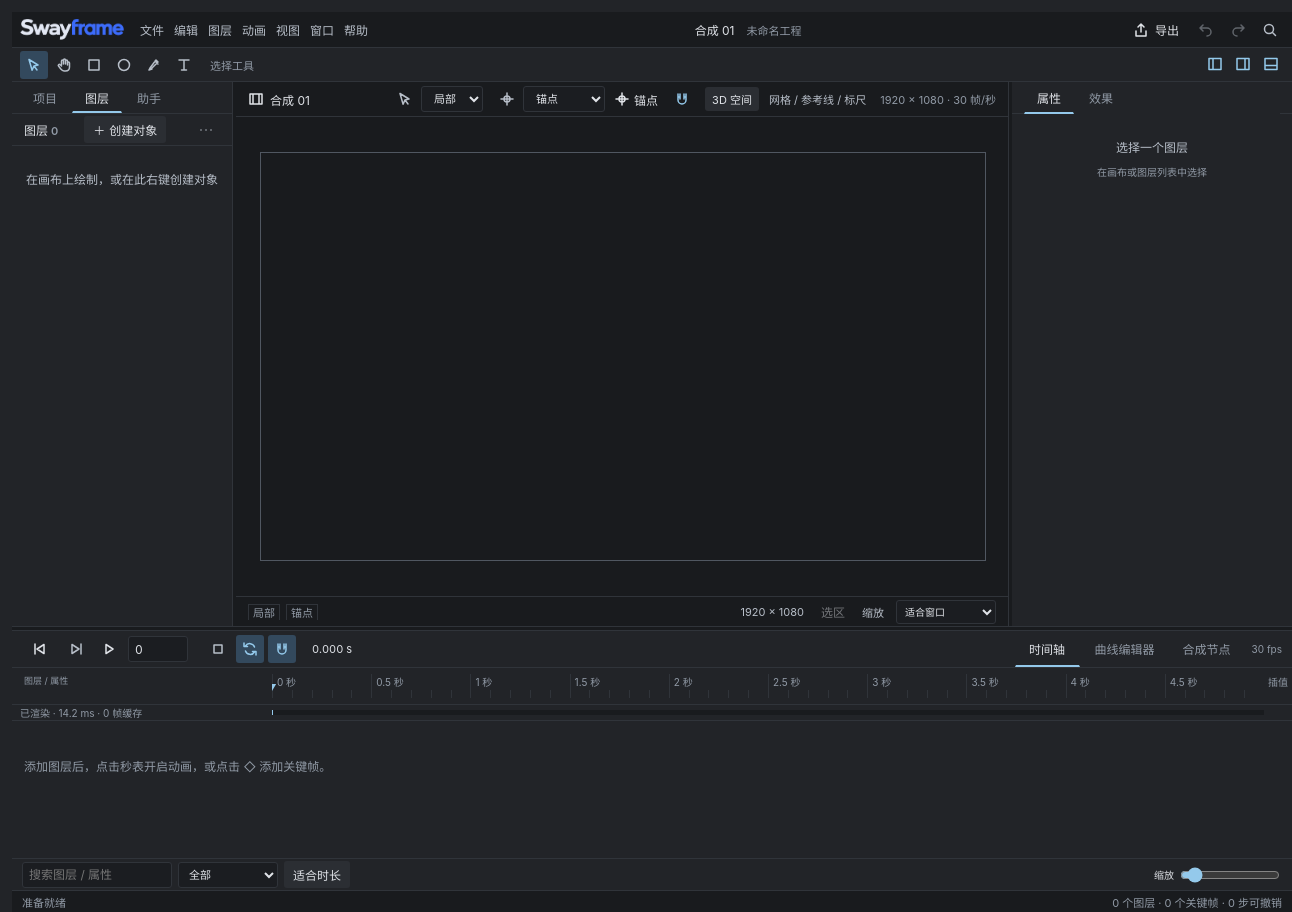
Scenario: 图层面板 / 属性面板 integration › 非法 属性面板 输入保留工程值并显示错误
Click the heading "文件" at (152, 30), box 140,23 -> 164,38
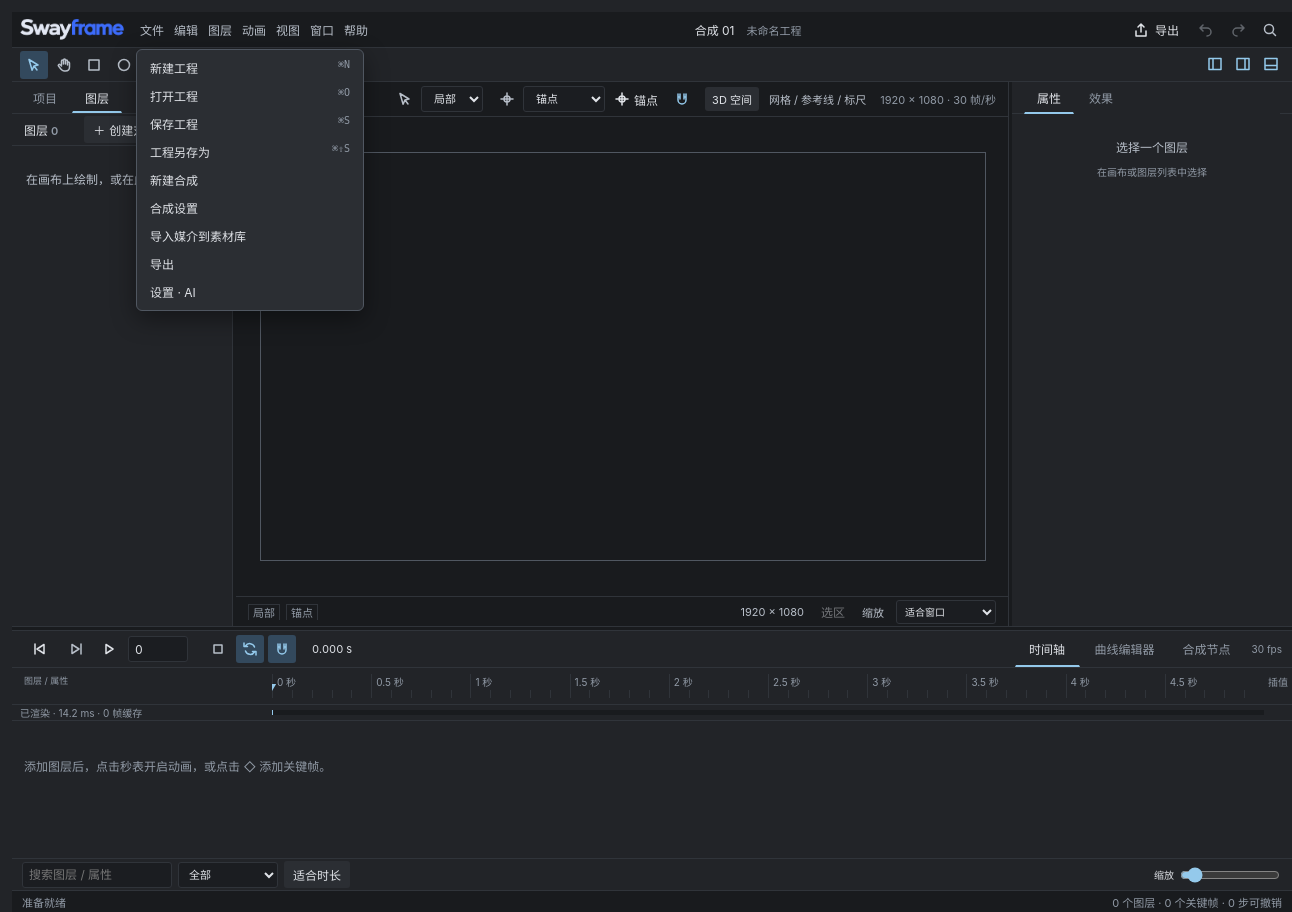
Click the heading "文件" at (152, 30), box 140,23 -> 164,38
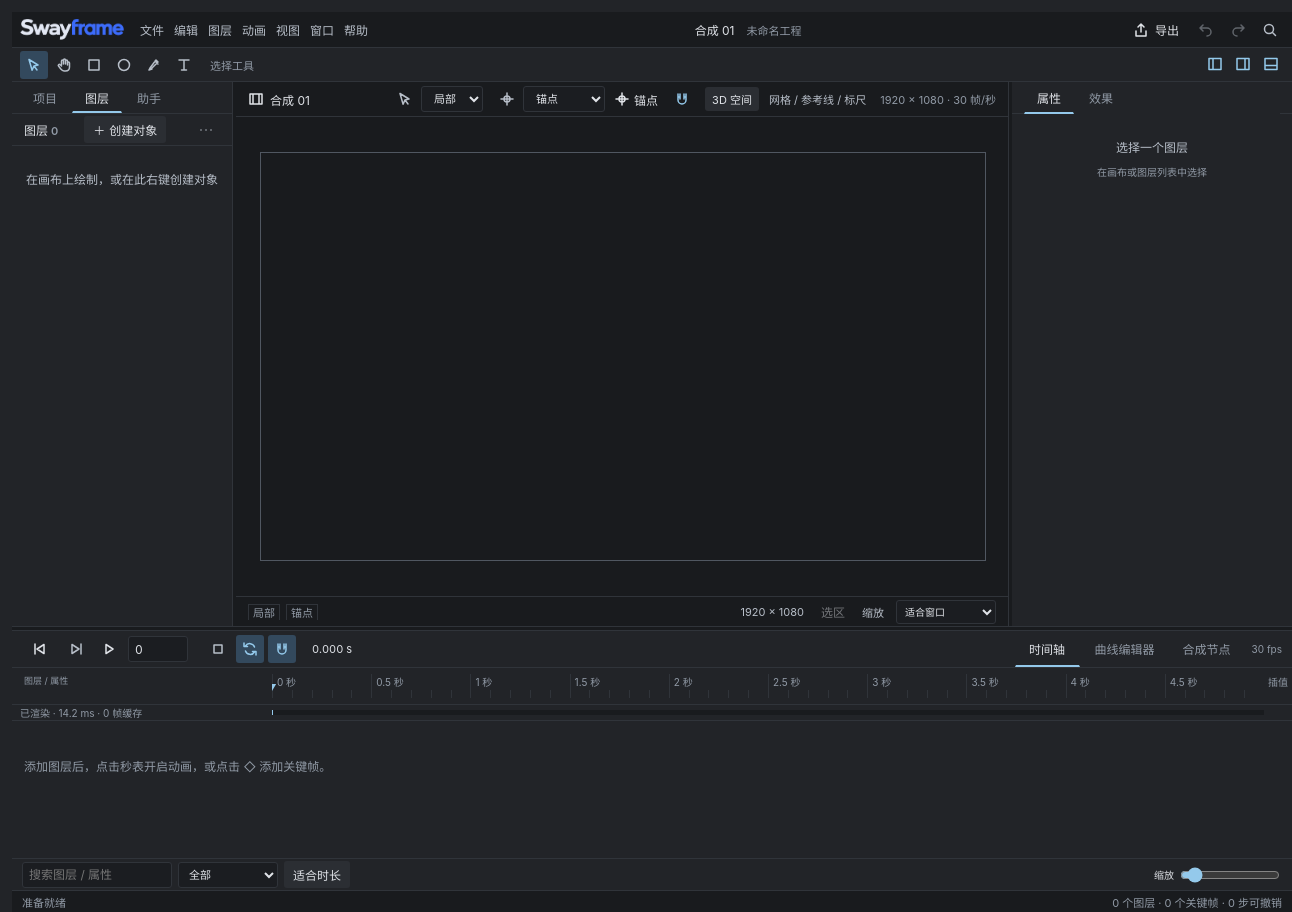
Right-click the element with class "timeline-scroll" at (652, 720), box 12,667 -> 1291,774
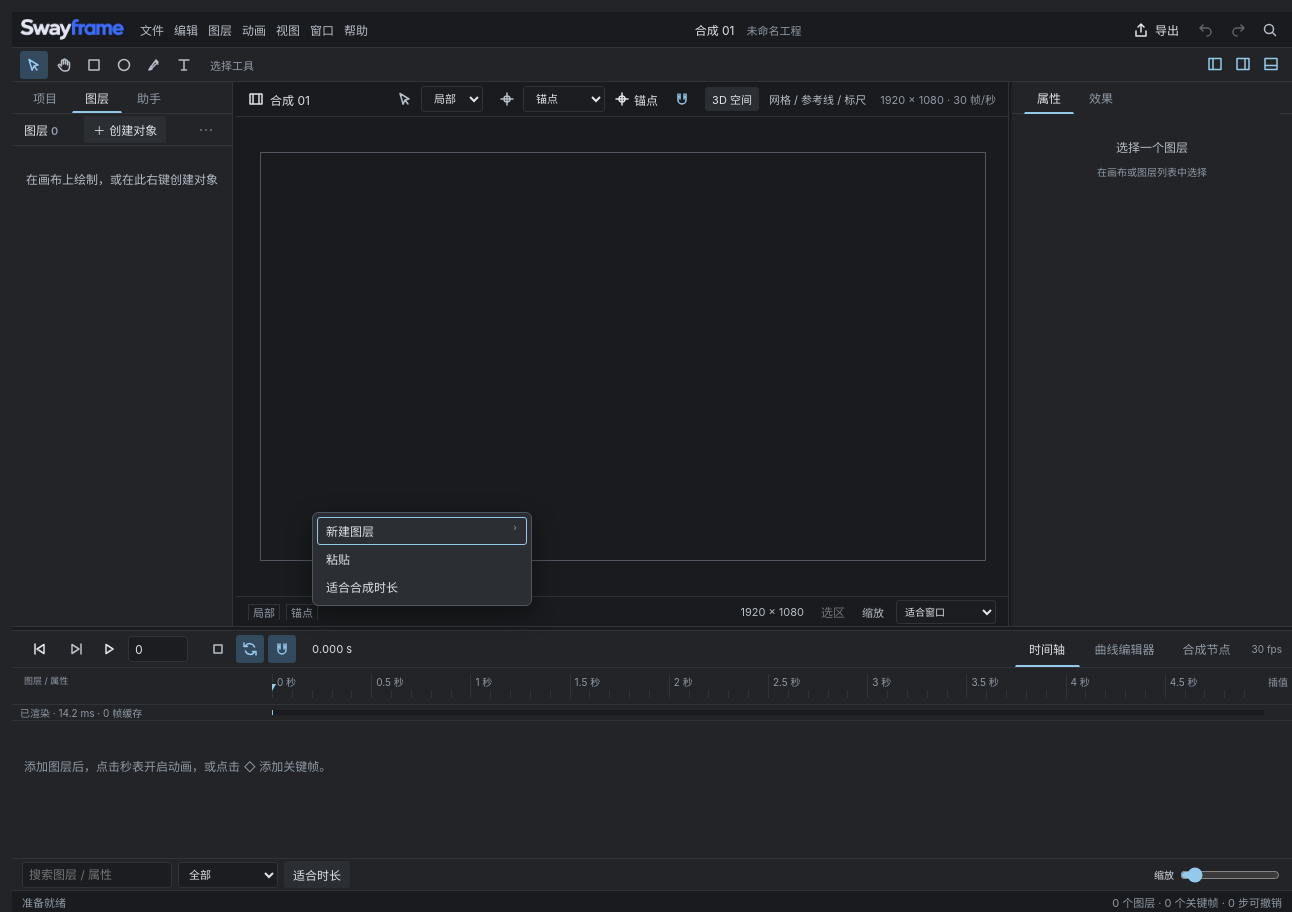
Click the menu item "新建图层 ›" at (422, 531), box 317,517 -> 527,545
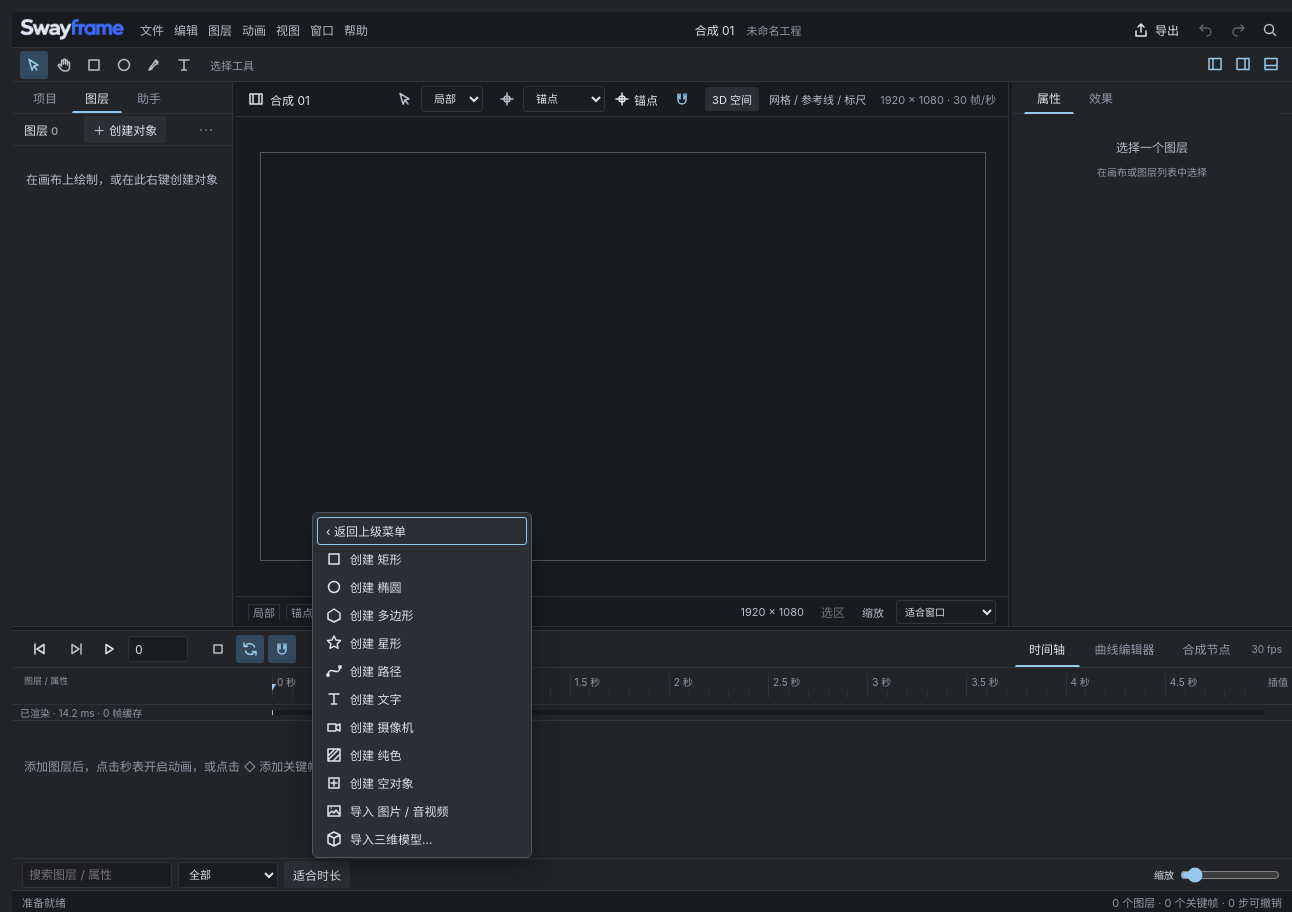
Click the menu item "创建 矩形" at (422, 559), box 317,545 -> 527,573
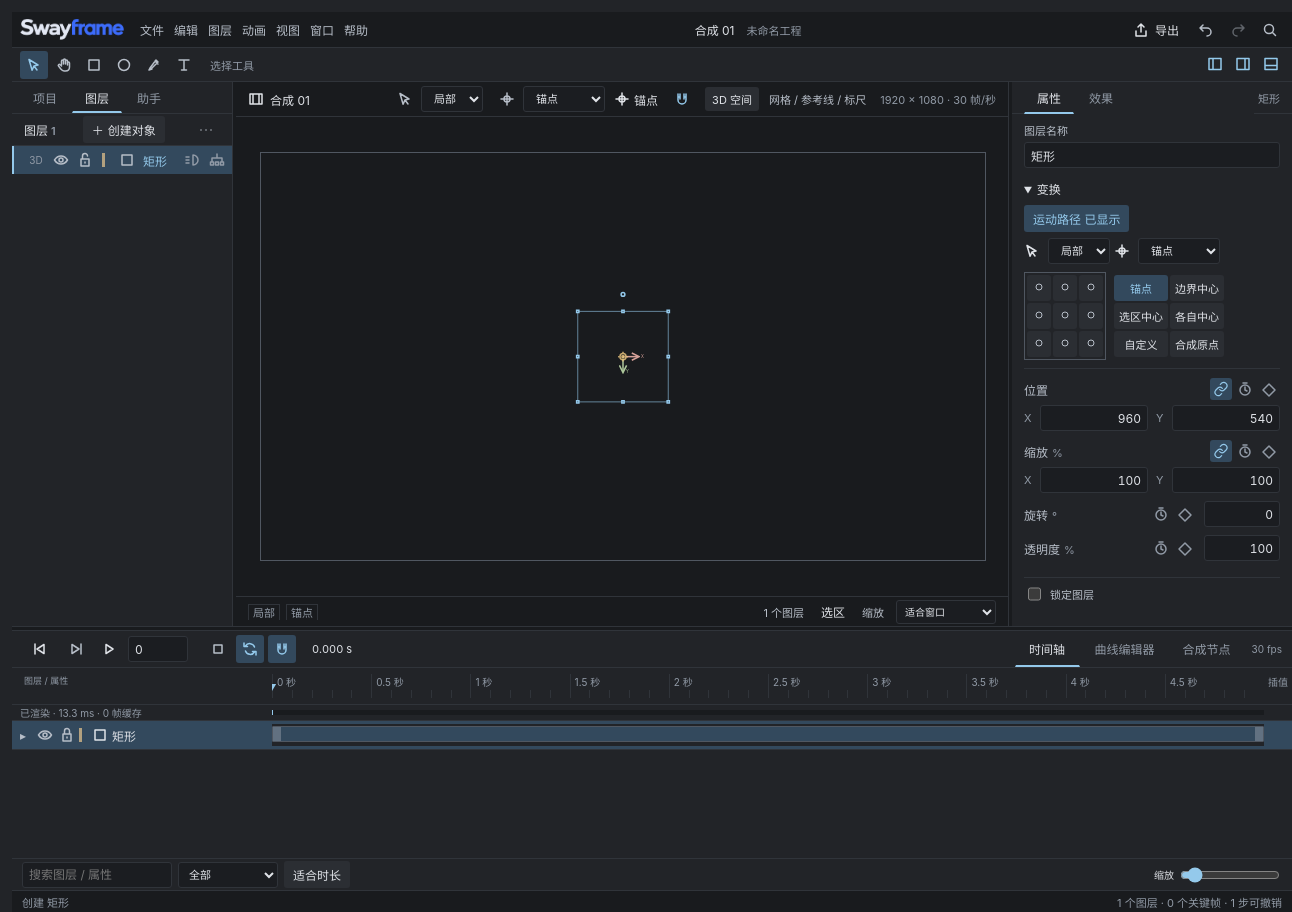
Replace the text in the number field named "透明度（%）" with "200" at (1242, 548), box 1204,535 -> 1280,561
Leave the number field named "透明度（%）", box 1204,535 -> 1280,561
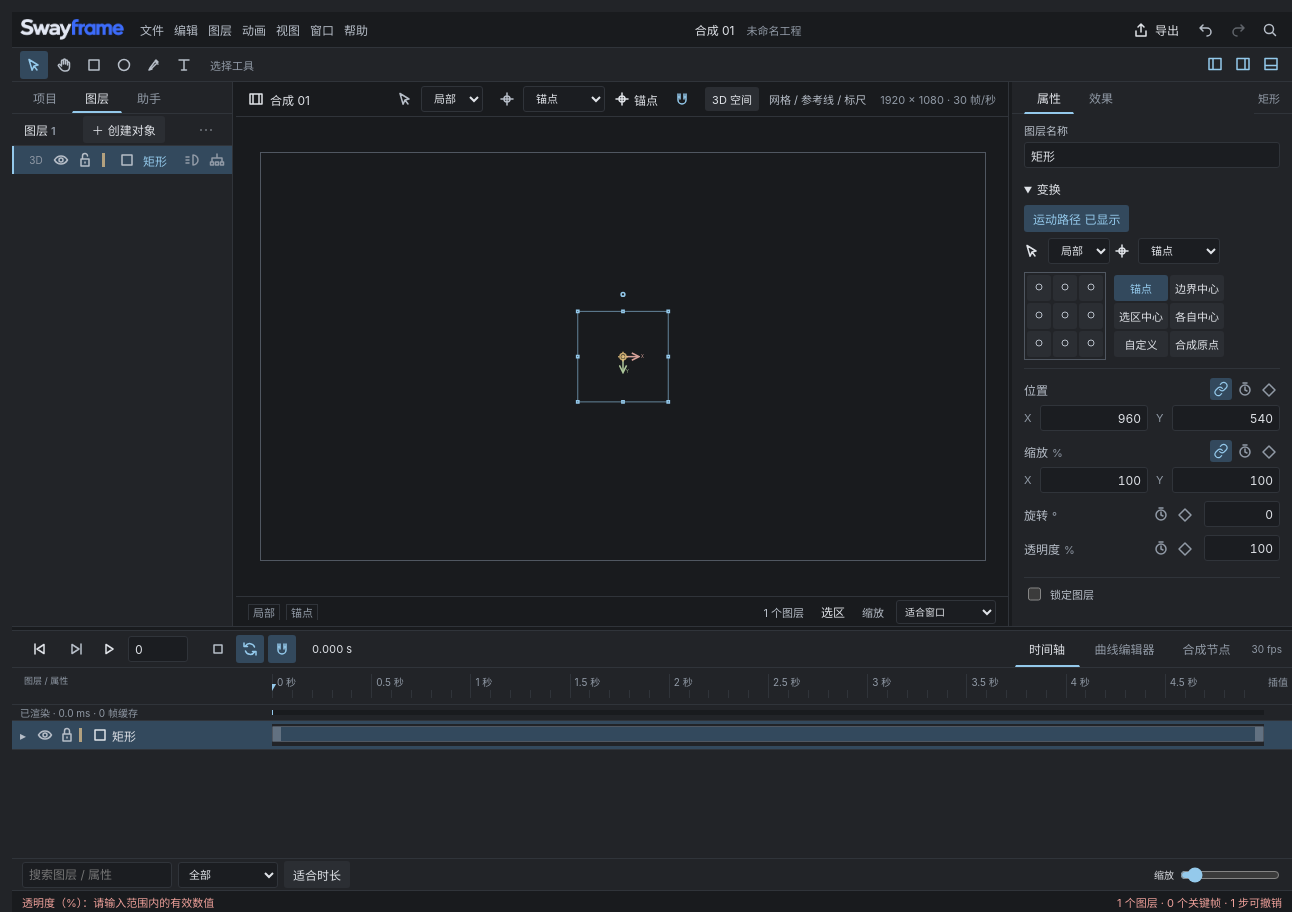
Expected: the message shows "范围", 22,894 -> 214,909
